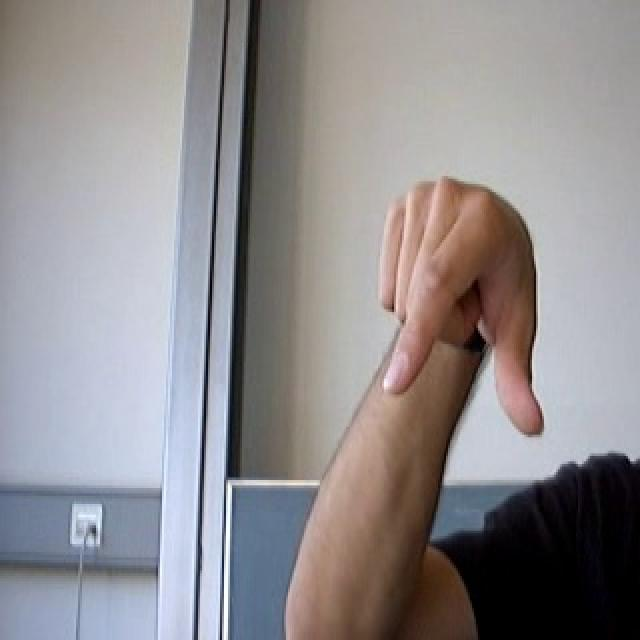Q: (362, 169, 562, 453)
